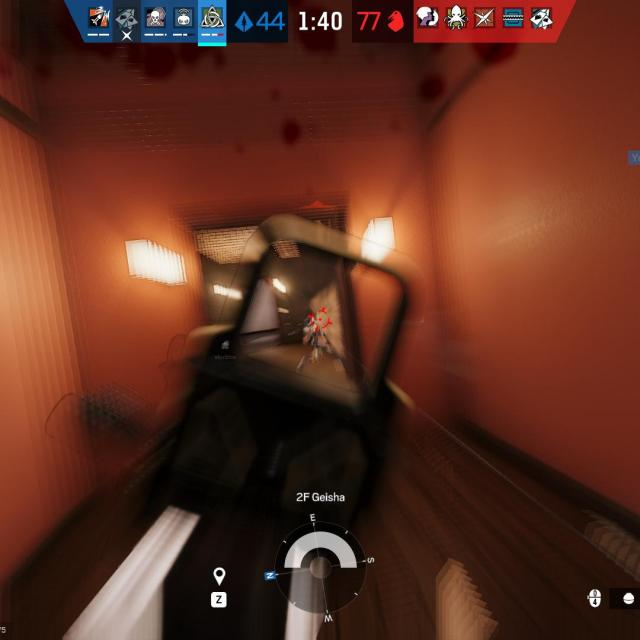Character: (296, 307, 342, 375)
Friend_label: (214, 339, 236, 361)
